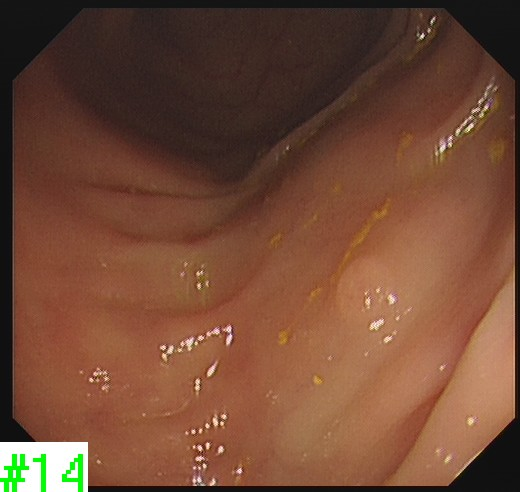adenoma: (333, 254, 401, 331)
